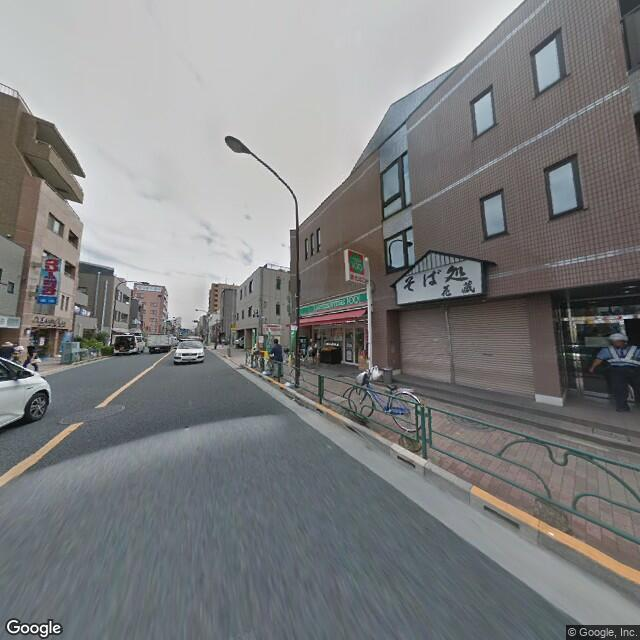lawson: (294, 287, 371, 321), (347, 248, 366, 280)
